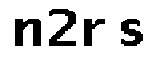2: (47, 5, 78, 54)
n: (12, 16, 43, 51)
r: (79, 13, 106, 52)
s: (115, 16, 146, 50)
